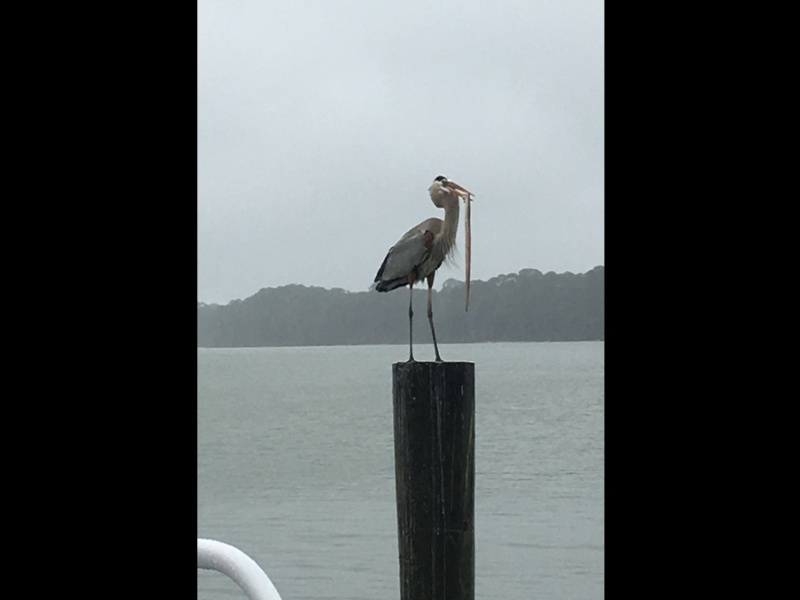heron: (369, 172, 472, 366)
